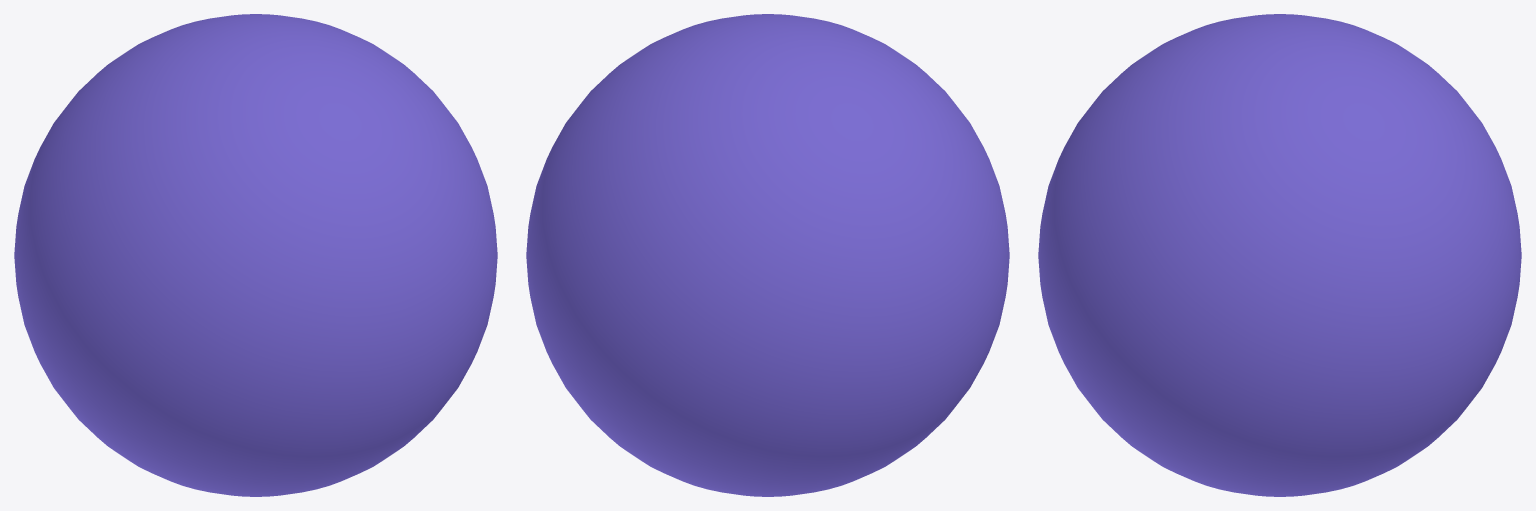
Rendered from alien_base.glb.
3 views of the same model, side by side, from view 1: azimuth 30°, elevation 25°; view 2: azimuth 150°, elevation 25°; view 3: azimuth 270°, elevation 25° (orthographic).
Parts seen in each view (by area): view 1: Space_Dome; view 2: Space_Dome; view 3: Space_Dome.
Part boxes in pixels (<box>): Space_Dome: <box>14,14,497,496</box>; Space_Dome: <box>526,14,1009,496</box>; Space_Dome: <box>1038,14,1521,496</box>.
Bounding box in the file's own units: 180 × 180 × 180.
